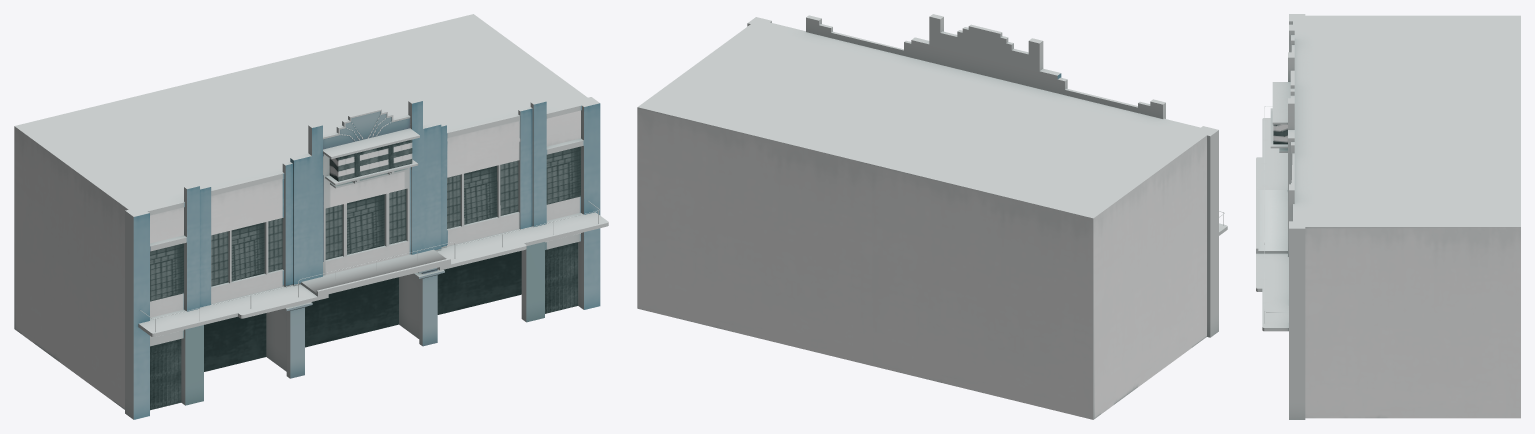
The model's file is Cinema Texturizado.fbx.
3 renders of one model, left to right at view 1: azimuth 30°, elevation 25°; view 2: azimuth 150°, elevation 25°; view 3: azimuth 270°, elevation 25°, orthographic. The views are drawn at different scales.
Bounding box in the file's own units: 1896 × 967 × 989.
Materials: 1 (1 with a texture image).
